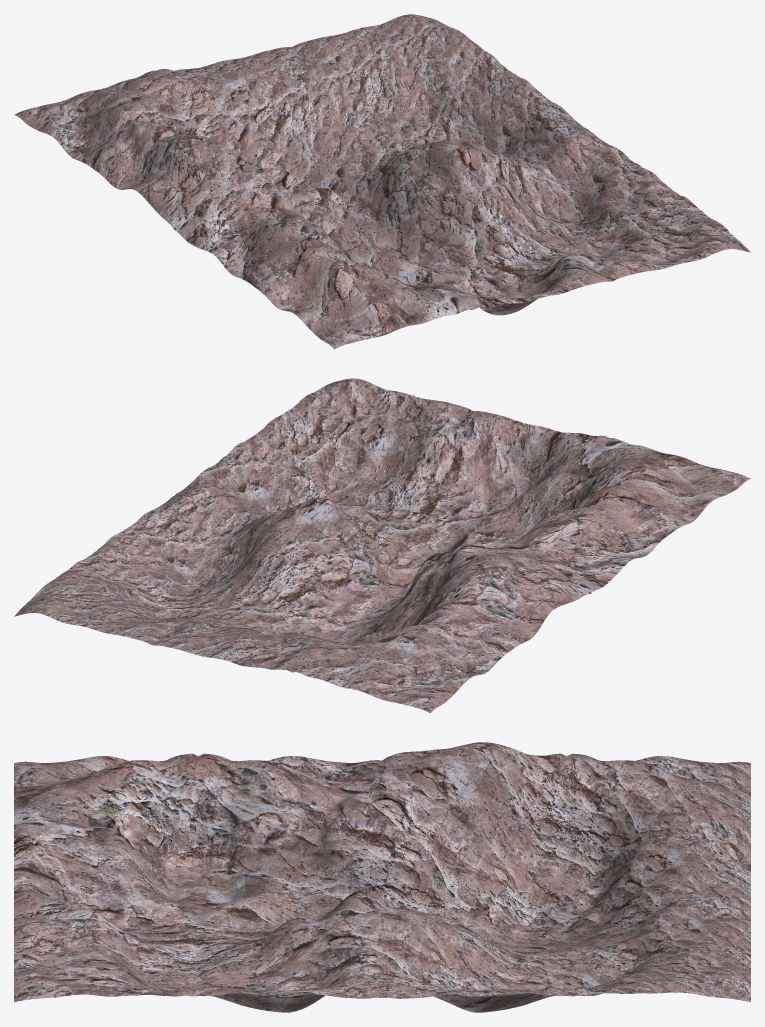
Rendered from sea_scene.obj.
3 views of the same model, one above another, from view 1: azimuth 30°, elevation 25°; view 2: azimuth 150°, elevation 25°; view 3: azimuth 270°, elevation 25° (orthographic). The views are drawn at different scales.
Parts seen in each view (by area): view 1: Plane_4_Plane.005; view 2: Plane_4_Plane.005; view 3: Plane_4_Plane.005.
Boxes of the visible parts, left/top/right/bottom form: Plane_4_Plane.005: left=14, top=14, right=750, bottom=349; Plane_4_Plane.005: left=14, top=378, right=750, bottom=713; Plane_4_Plane.005: left=14, top=742, right=750, bottom=1012.
Bounding box in the file's own units: 300 × 72.86 × 400.
1 material, 1 textured.
